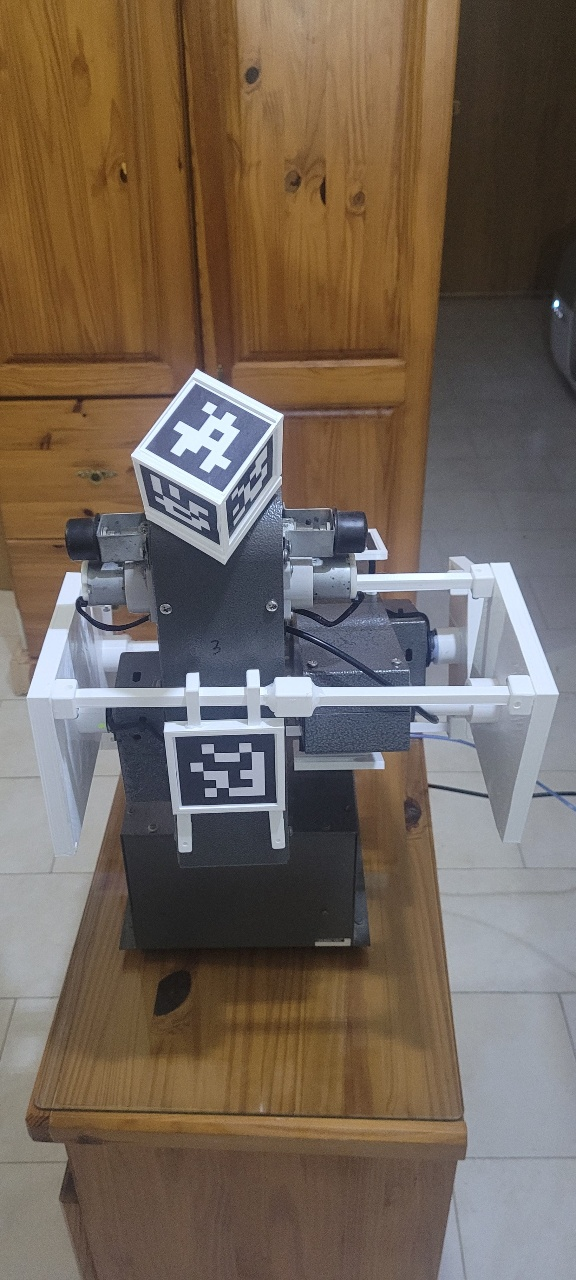Robot: (25, 367, 561, 875)
